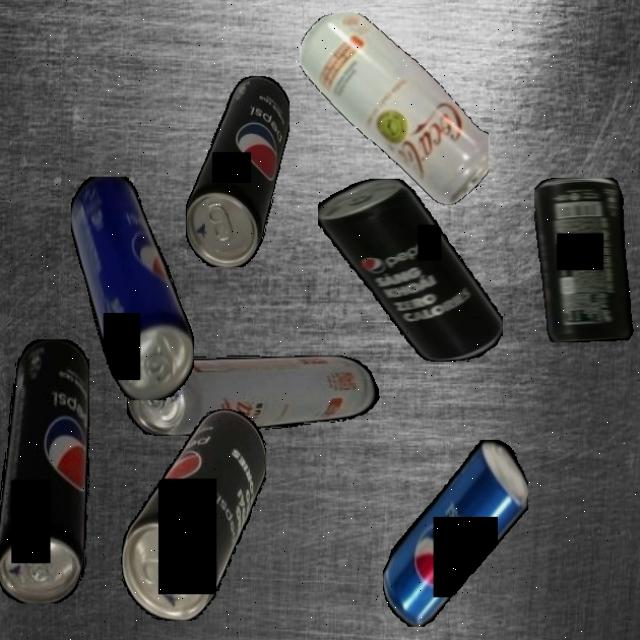debris: (300, 12, 490, 205), (317, 178, 503, 362), (120, 408, 266, 621), (70, 176, 194, 400), (382, 439, 528, 627), (0, 338, 89, 603), (127, 354, 382, 436), (185, 75, 289, 267), (534, 177, 634, 342)
